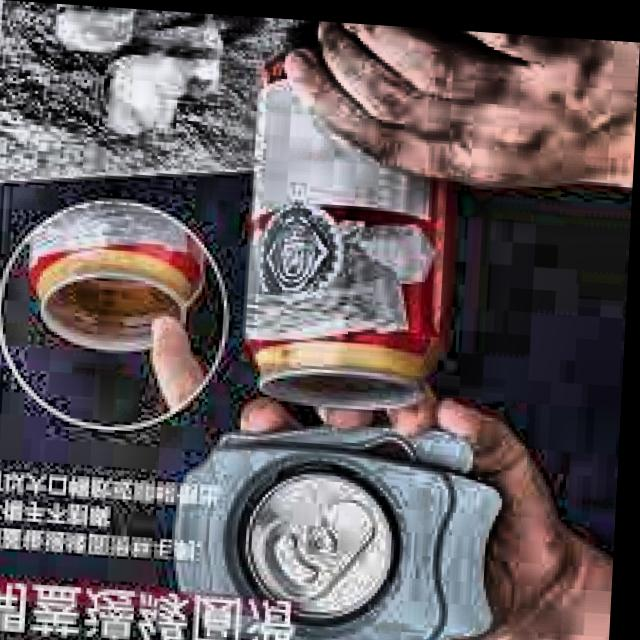can: (236, 39, 469, 422), (21, 178, 217, 360)
